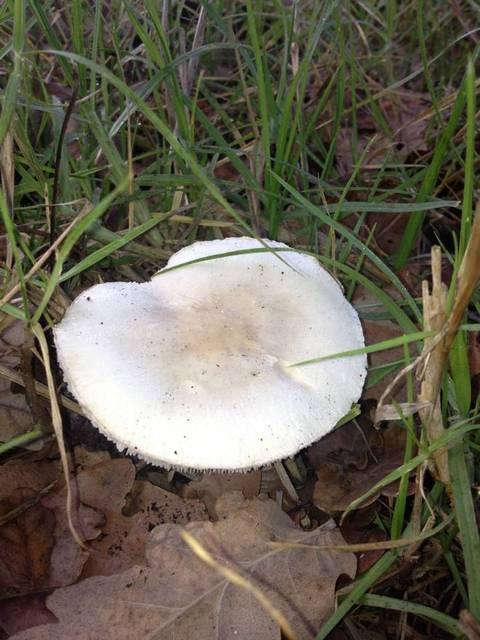Non-edible Mushroom: (51, 234, 369, 482)
